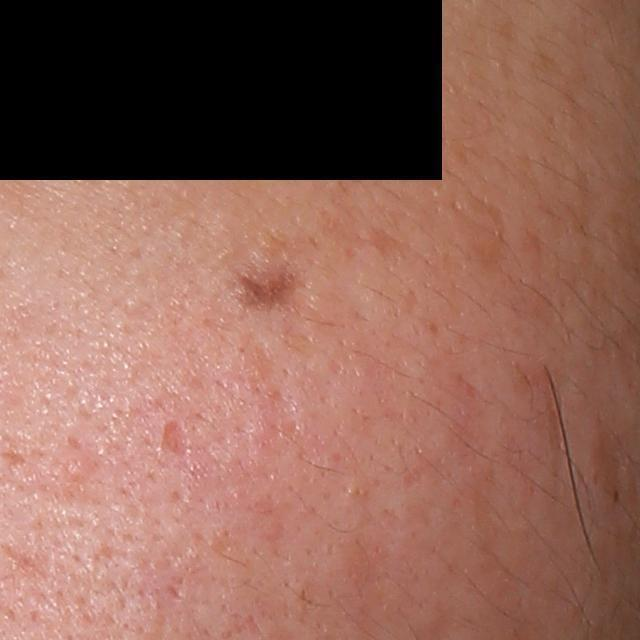atrophic_scar: (158, 417, 190, 463)
melasma: (218, 255, 309, 309)
